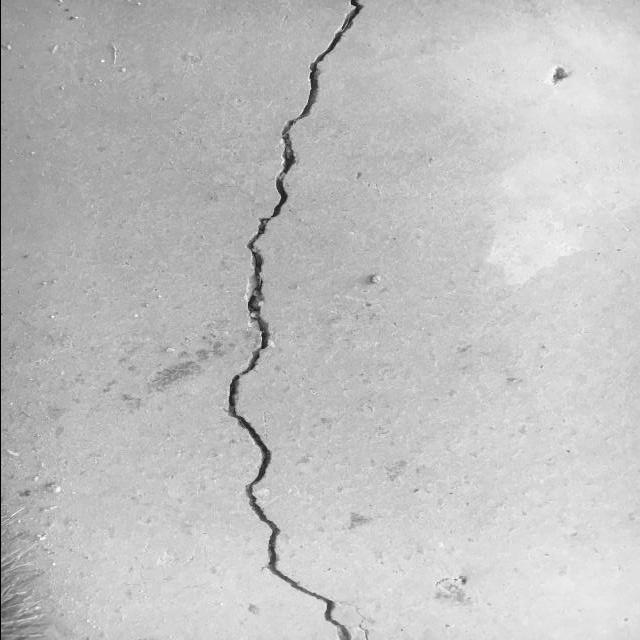SurfaceCrack: (212, 0, 409, 640)
